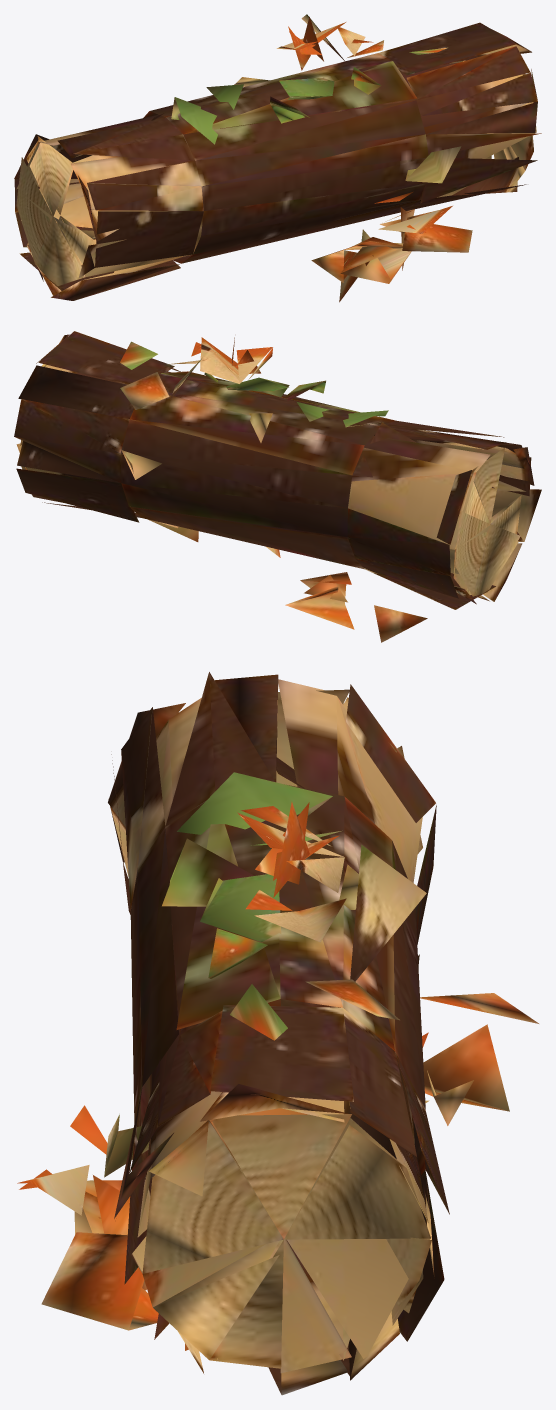
Rendered from mushroom-log.lod1.glb.
3 renders of one model, top to bottom at view 1: azimuth 30°, elevation 25°; view 2: azimuth 150°, elevation 25°; view 3: azimuth 270°, elevation 25°, orthographic. The views are drawn at different scales.
Visible parts, largest first — view 1: mushroom-log.001; view 2: mushroom-log.001; view 3: mushroom-log.001.
Boxes of the visible parts, x1,y1,x2,y2 form: mushroom-log.001: [14, 14, 541, 302]; mushroom-log.001: [14, 331, 541, 642]; mushroom-log.001: [17, 672, 538, 1395].
Bounding box in the file's own units: 1.05 × 0.5471 × 0.5207.
Materials: 1 (1 with a texture image).
